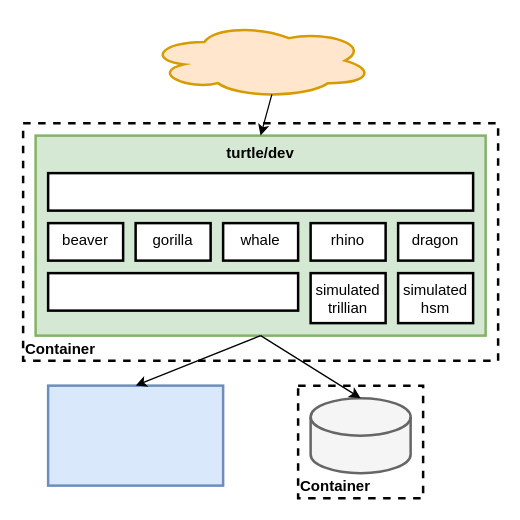
This 520x520 diagram has some shape labels left out. The shapes that lost their labels are listed below. From the top down, each one's centre as x and y in pixels, then its label:
At (260,60): "Local Development".
At (260,191): "deer".
At (172,291): "in-memory Cache replacements".
At (135,435): "Your Application in Debug Mode".
At (360,435): "Test DB".
